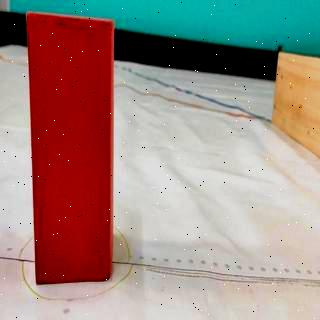redbox: (25, 12, 114, 286)
